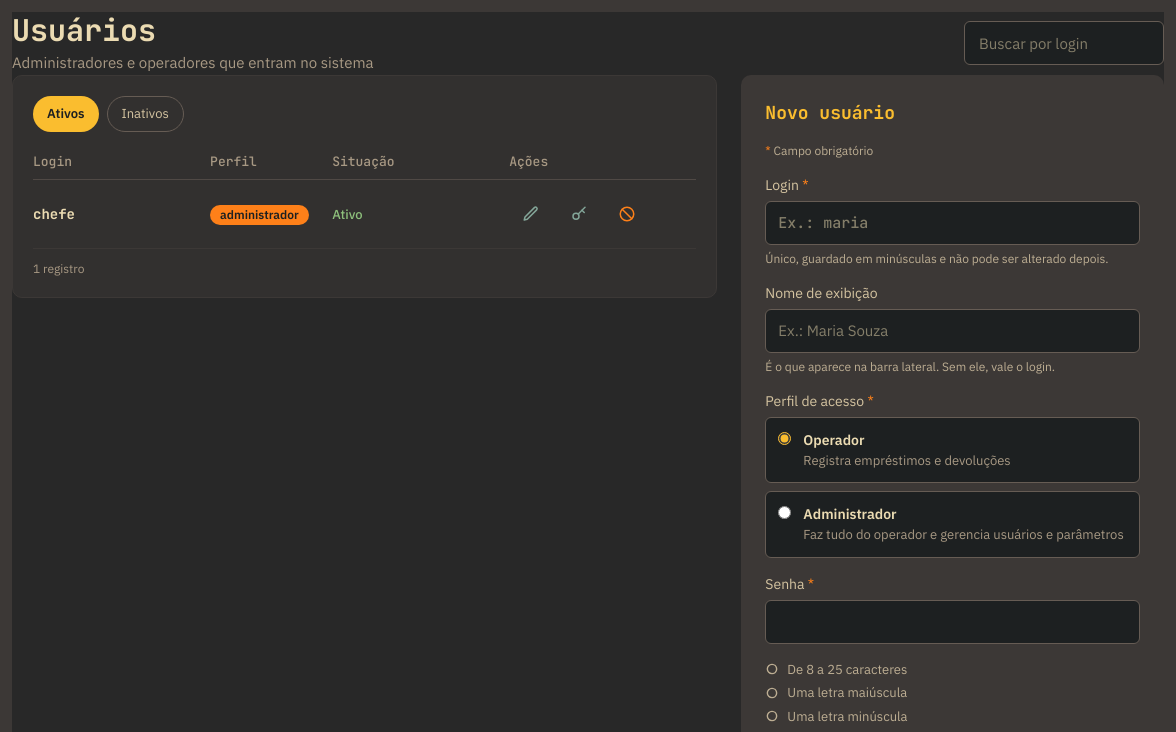
usuários: reativação › o usuário reativado passa a aparecer na aba dos ativos
Click the button "Inativos". click: (145, 114)
box: [106,96,184,132]
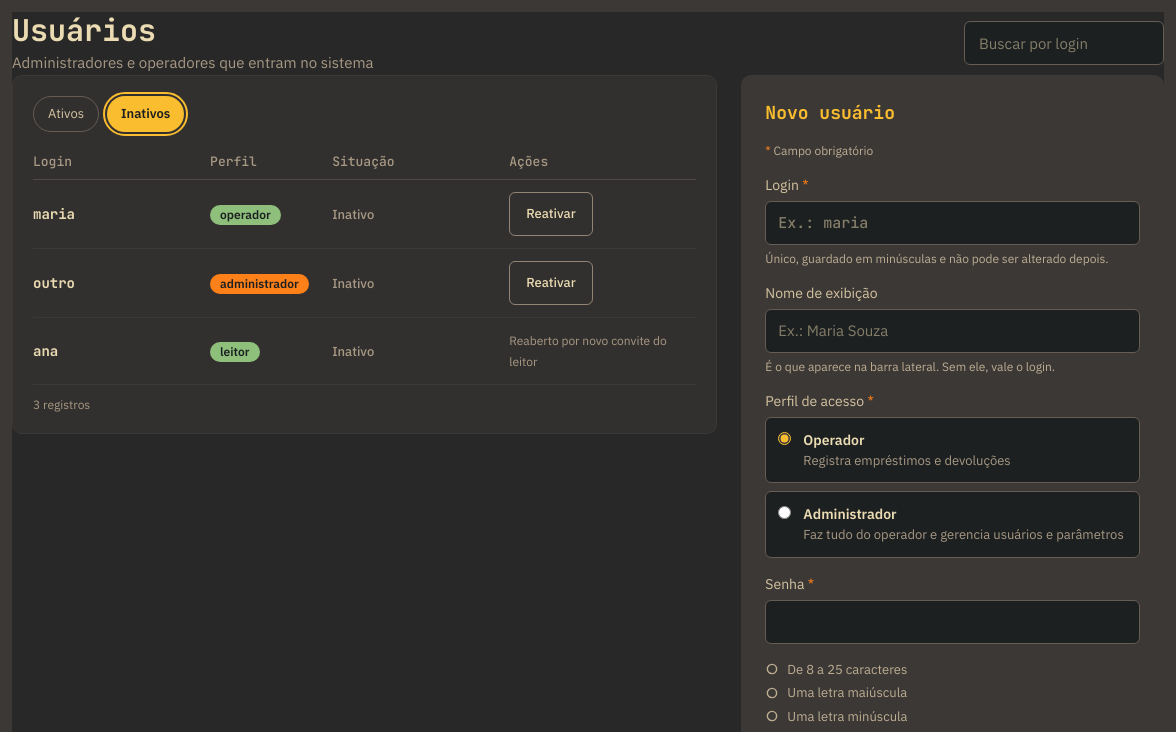
Click the button with aria-label "Reativar maria". click: (551, 214)
box: [509,192,593,236]
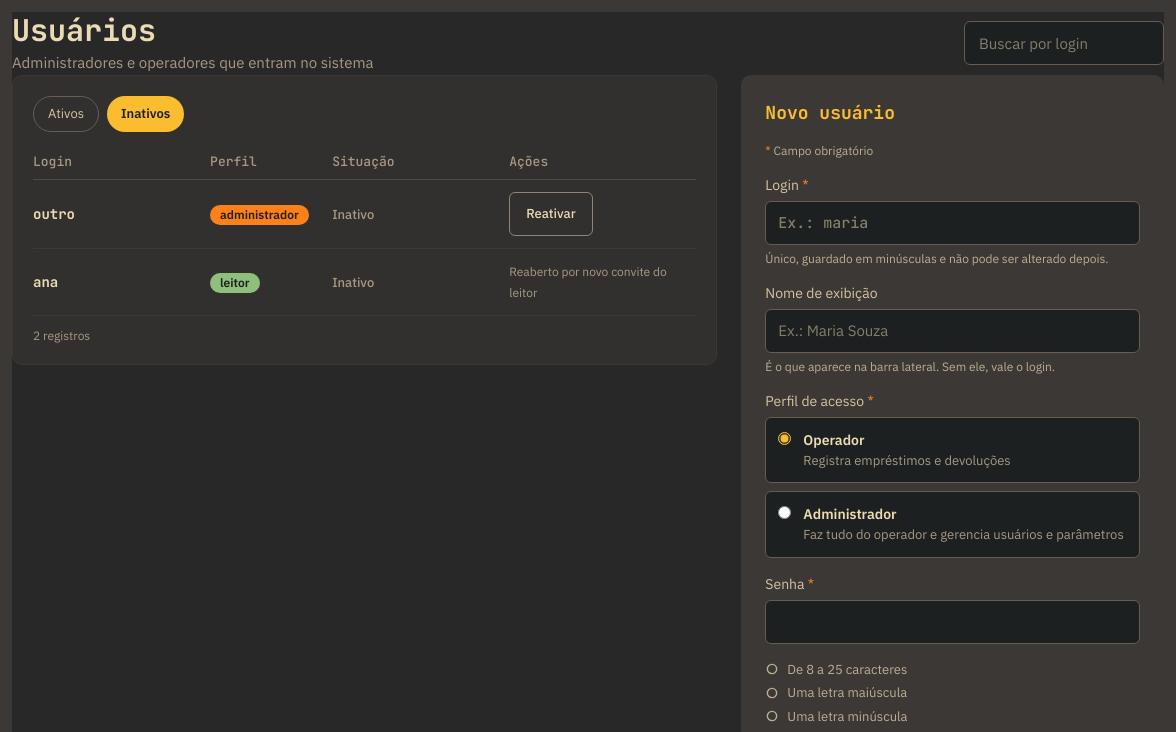
Click the button "Ativos". click: (66, 114)
box: [33,96,99,132]
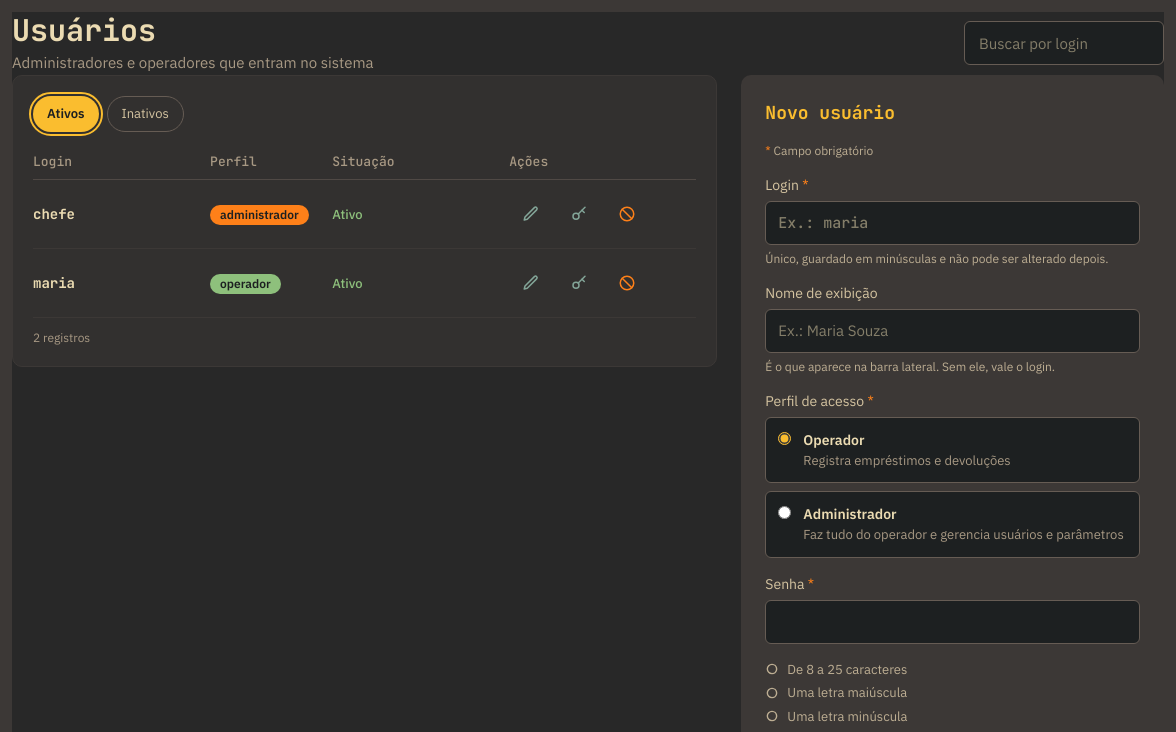
expect the button named "Inativar maria" is shown: met, box [605,261,649,305]
